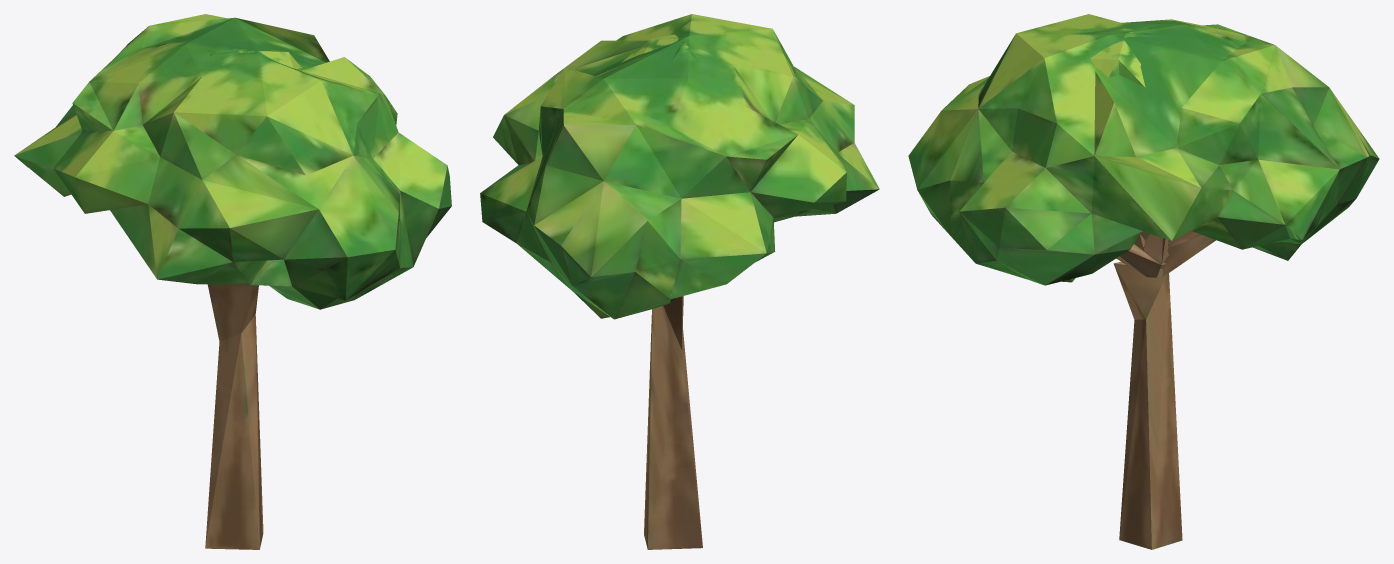
Rendered from tree_round_b_far.glb.
3 views of the same model, side by side, from view 1: azimuth 30°, elevation 25°; view 2: azimuth 150°, elevation 25°; view 3: azimuth 270°, elevation 25° (orthographic). The views are drawn at different scales.
Parts seen in each view (by area): view 1: body; view 2: body; view 3: body.
Part boxes in pixels (<box>): body: <box>14,14,451,549</box>; body: <box>480,14,879,549</box>; body: <box>908,14,1379,549</box>.
Bounding box in the file's own units: 3.13 × 4.37 × 3.72.
Materials: 2 (2 with a texture image).
